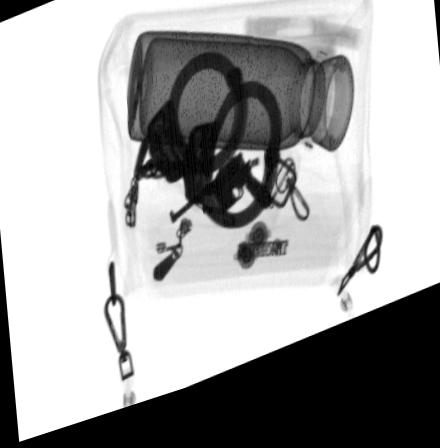Gun: (166, 164, 272, 243)
HandCuffs: (121, 67, 280, 245)
